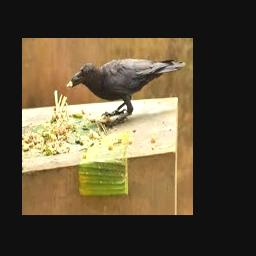Crow: (69, 58, 186, 120)
